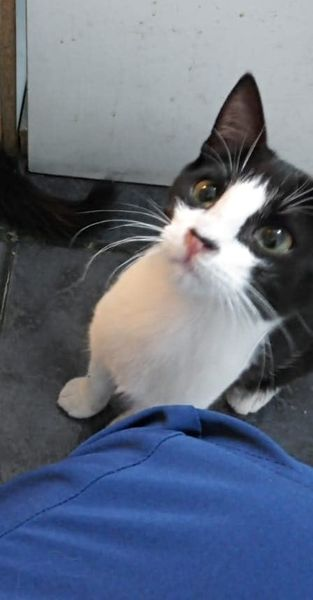cat: (44, 69, 312, 451)
